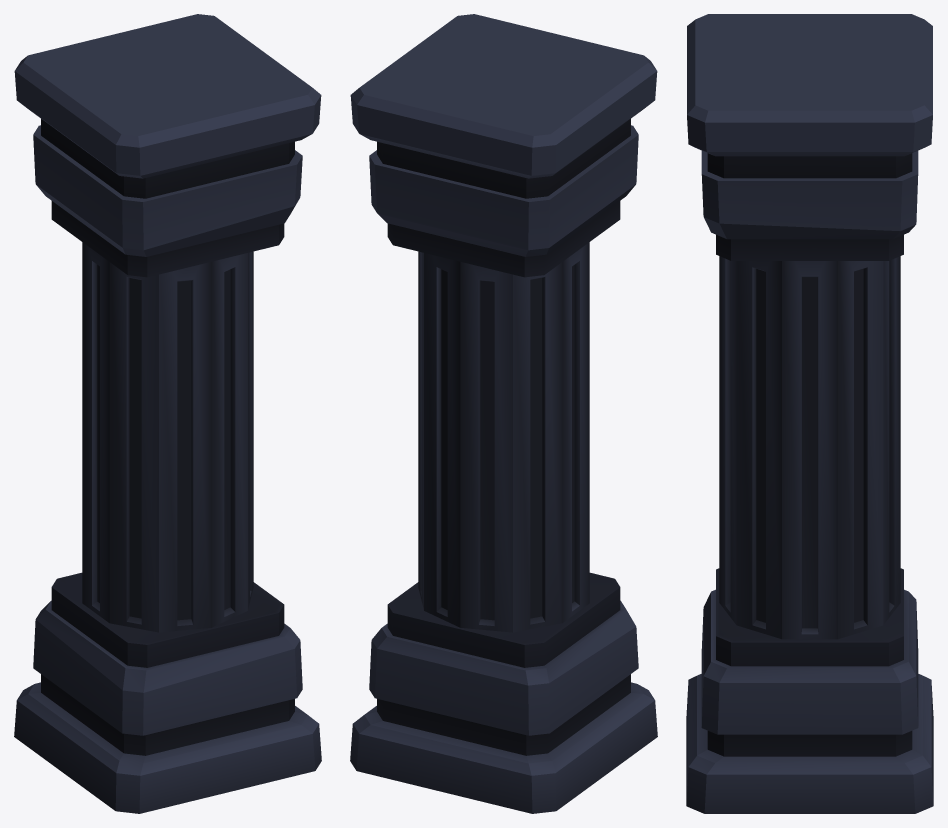
The model's file is pq_colonne_donjon_2.glb.
3 views of the same model, side by side, from view 1: azimuth 30°, elevation 25°; view 2: azimuth 150°, elevation 25°; view 3: azimuth 270°, elevation 25° (orthographic). The views are drawn at different scales.
Parts seen in each view (by area): view 1: Column2; view 2: Column2; view 3: Column2.
Boxes of the visible parts, left/top/right/bottom form: Column2: left=14, top=14, right=321, bottom=813; Column2: left=350, top=14, right=657, bottom=813; Column2: left=686, top=14, right=933, bottom=813.
Size of the model in its own units: 1.3 by 4.07 by 1.3.
